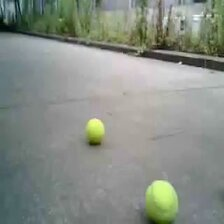tennis: (145, 179, 179, 222), (85, 117, 104, 145)
